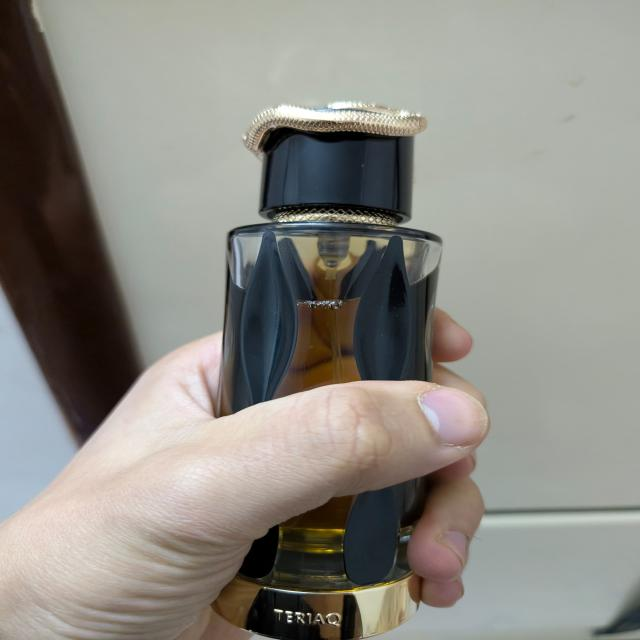Teriaq-Intense: (210, 99, 448, 638)
